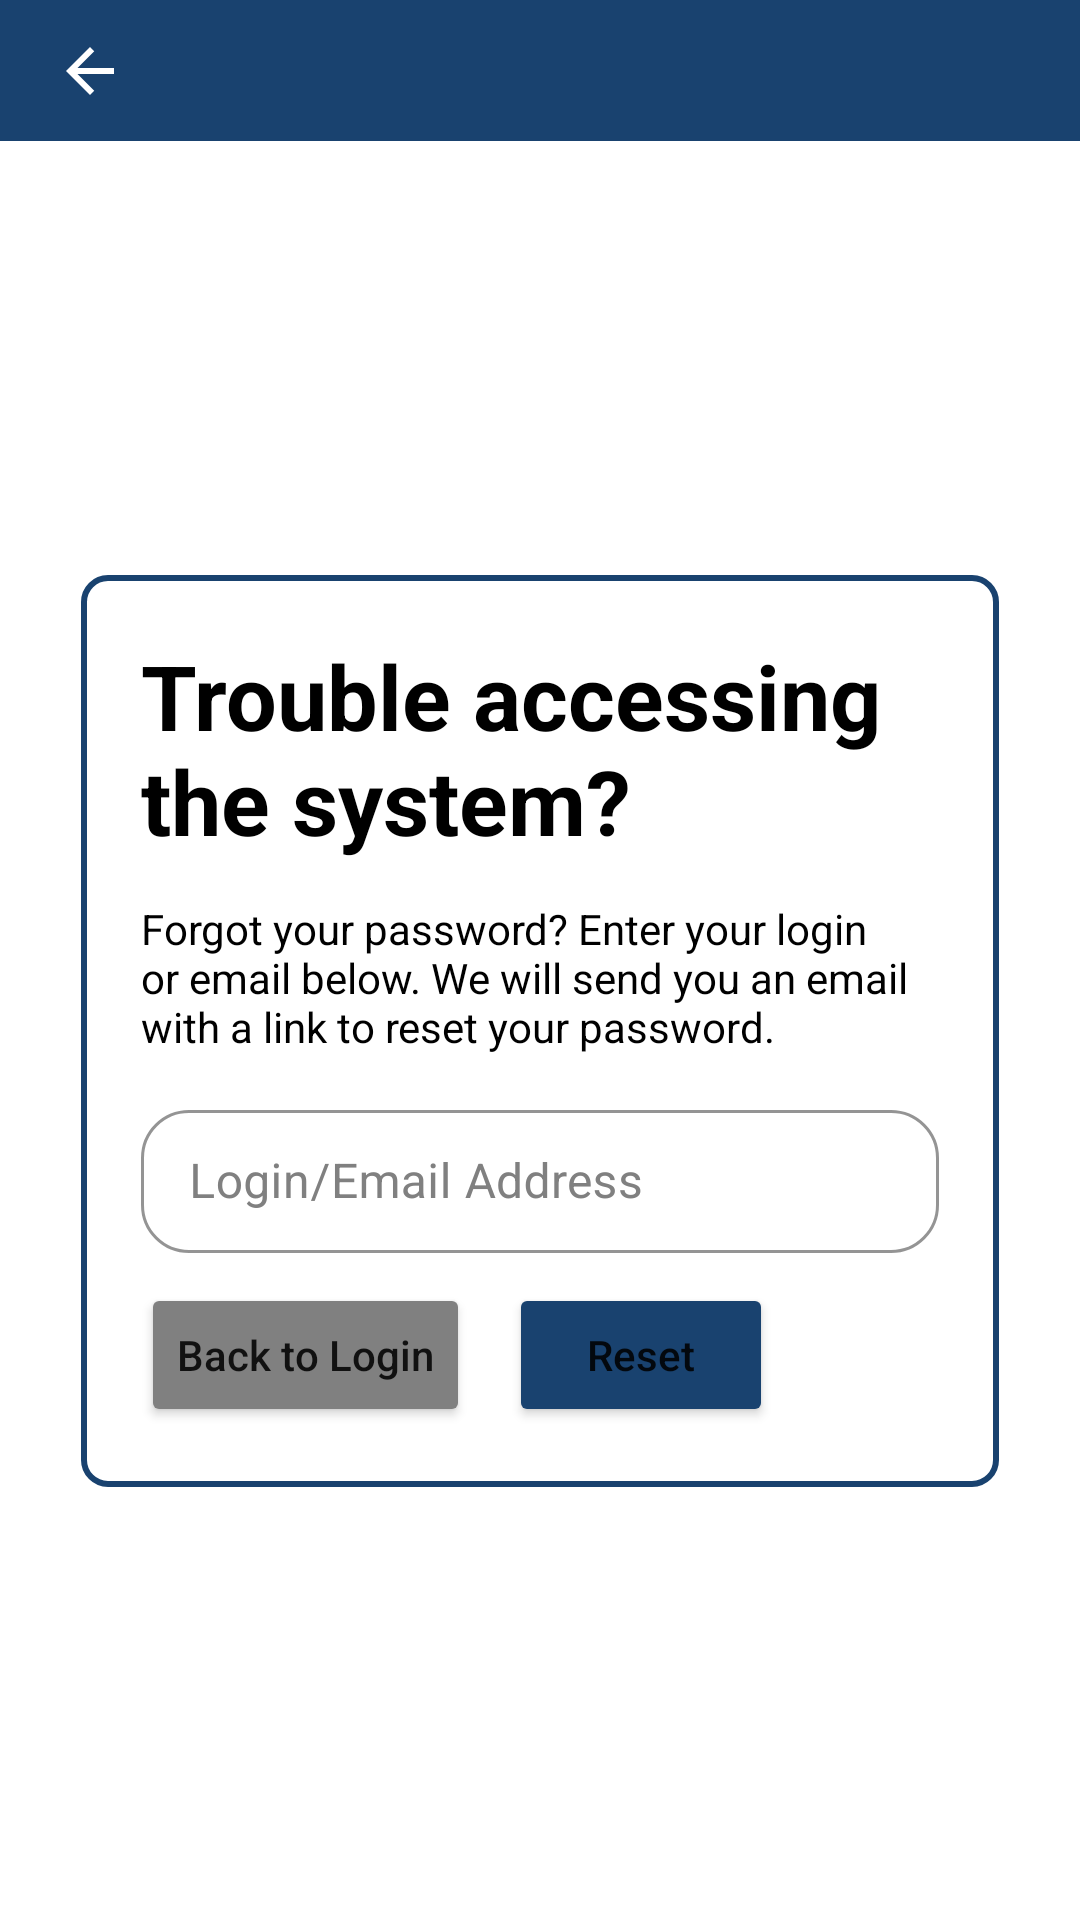

Screen size 1080 x 1920. Icon name, then its box in pixels as [x1, y1, x2, y2]:
arrow back: [66, 47, 114, 95]
